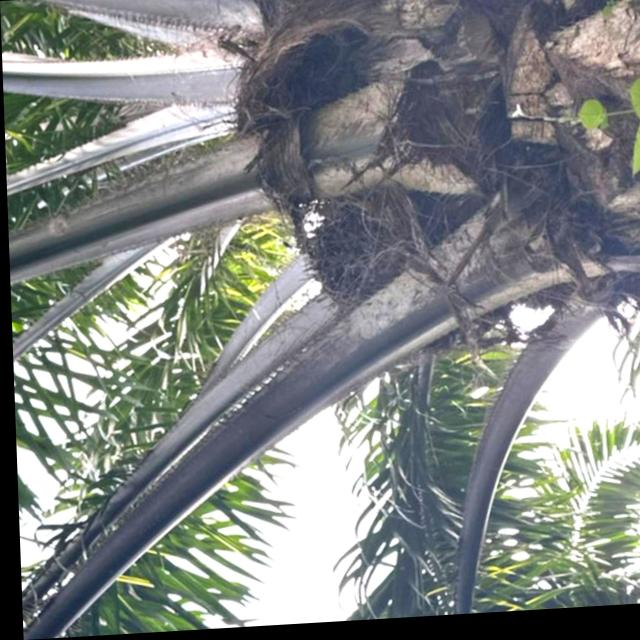almost: (279, 193, 526, 378)
